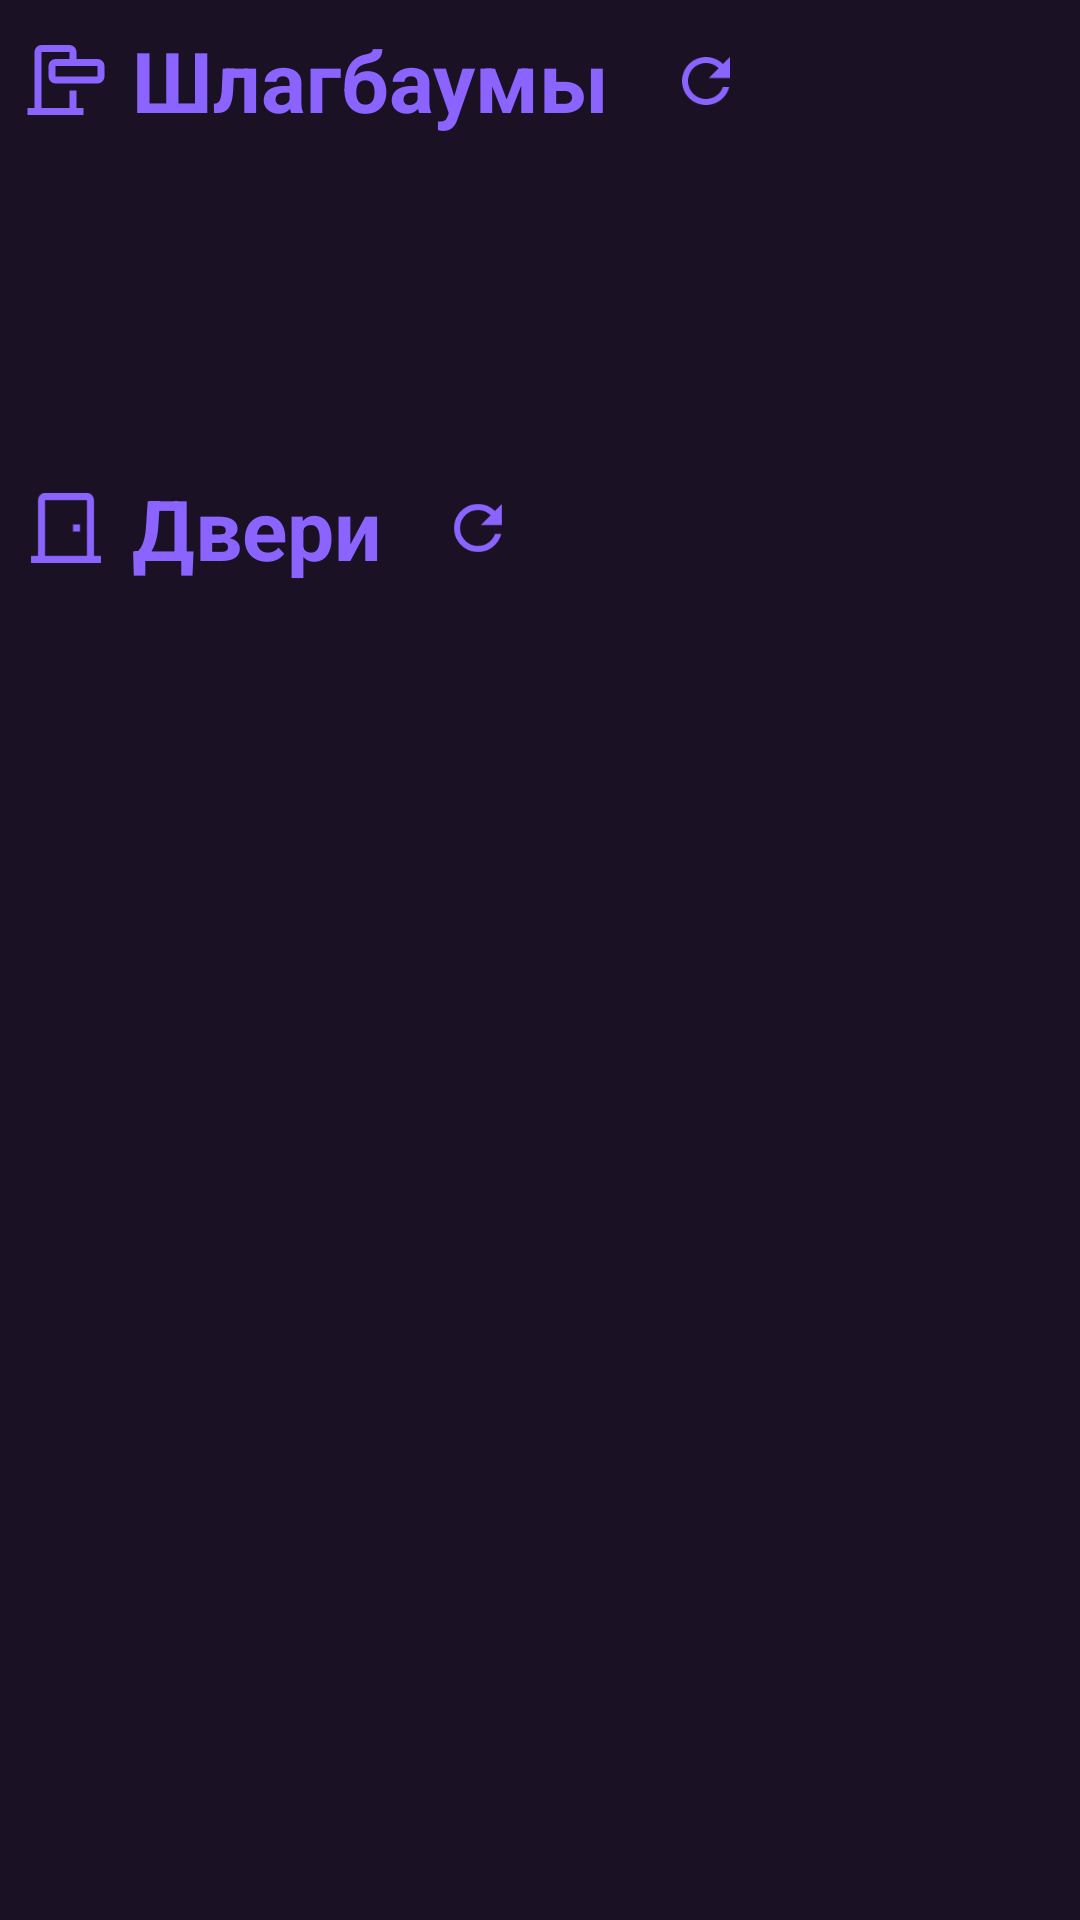

Named icons in this screenshot (1080 × 1920) and their centers, (x,y):
barrier: (66,80)
door: (66,528)
Обновить: (706,81), (478,528)
